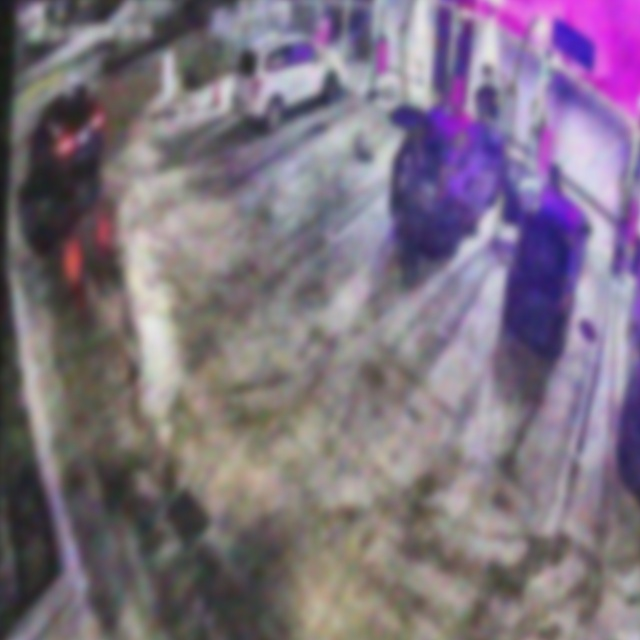Car: (387, 97, 505, 257)
